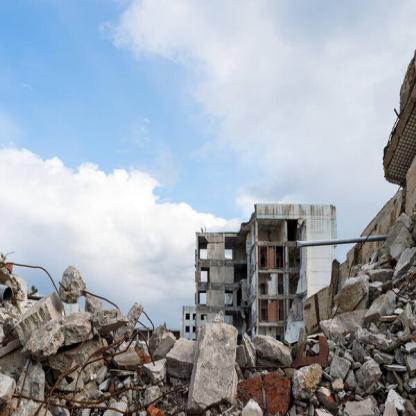rebar: (11, 322, 183, 415), (1, 249, 66, 315), (346, 221, 379, 278), (79, 289, 122, 310), (16, 356, 33, 409), (383, 108, 400, 150), (241, 362, 297, 373), (136, 315, 154, 336), (141, 308, 155, 329), (333, 298, 343, 315), (391, 105, 401, 121), (57, 278, 67, 293)
